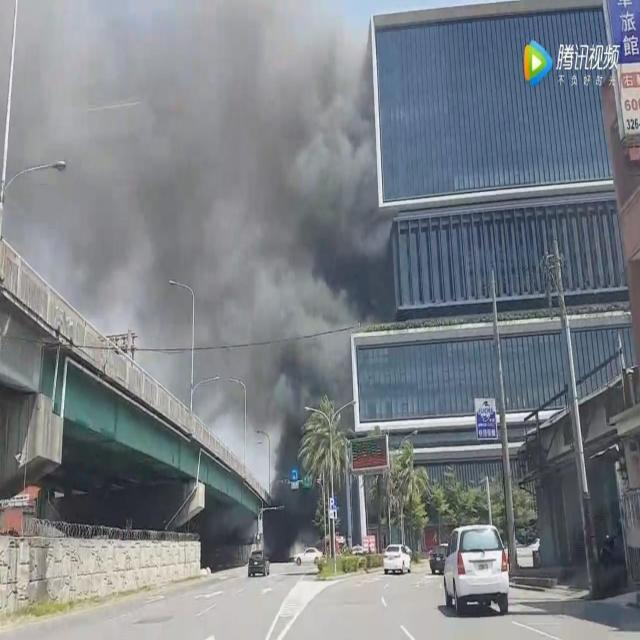Smoke: (1, 1, 392, 560)
